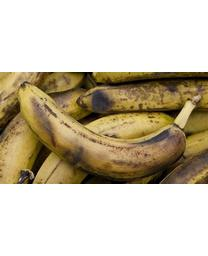banana: (16, 78, 202, 181)
